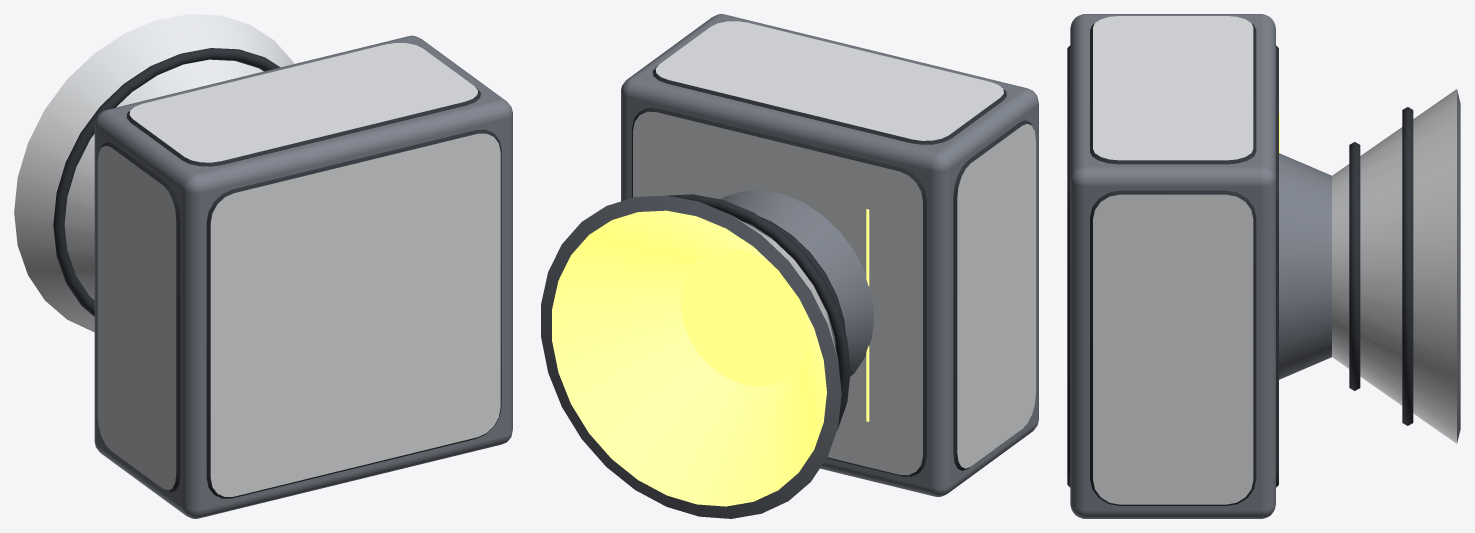
The model's file is R4X_Booster.fbx.
3 views of the same model, side by side, from view 1: azimuth 30°, elevation 25°; view 2: azimuth 150°, elevation 25°; view 3: azimuth 270°, elevation 25° (orthographic). The views are drawn at different scales.
Parts seen in each view (by area): view 1: R4X_Booster_Body; view 2: R4X_Booster_Body; view 3: R4X_Booster_Body.
Part boxes in pixels (x1,y1,x2,y2): R4X_Booster_Body: (14, 14, 512, 518); R4X_Booster_Body: (541, 14, 1038, 518); R4X_Booster_Body: (1067, 14, 1460, 518).
Bounding box in the file's own units: 0.52 × 0.52 × 0.52.
